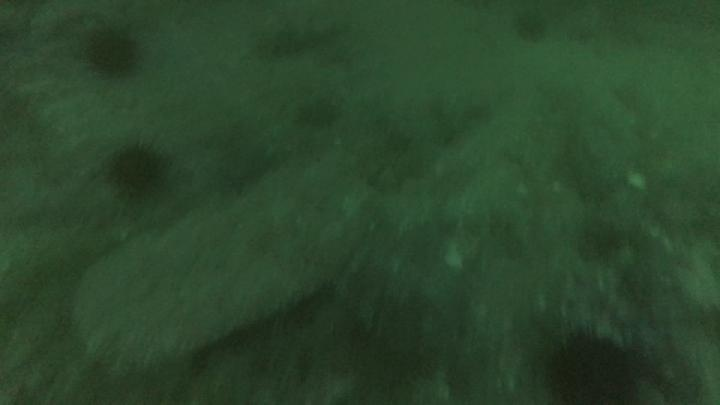echinus: (538, 324, 648, 404), (104, 137, 172, 204), (82, 24, 143, 79)
holothurian: (249, 15, 350, 61)
